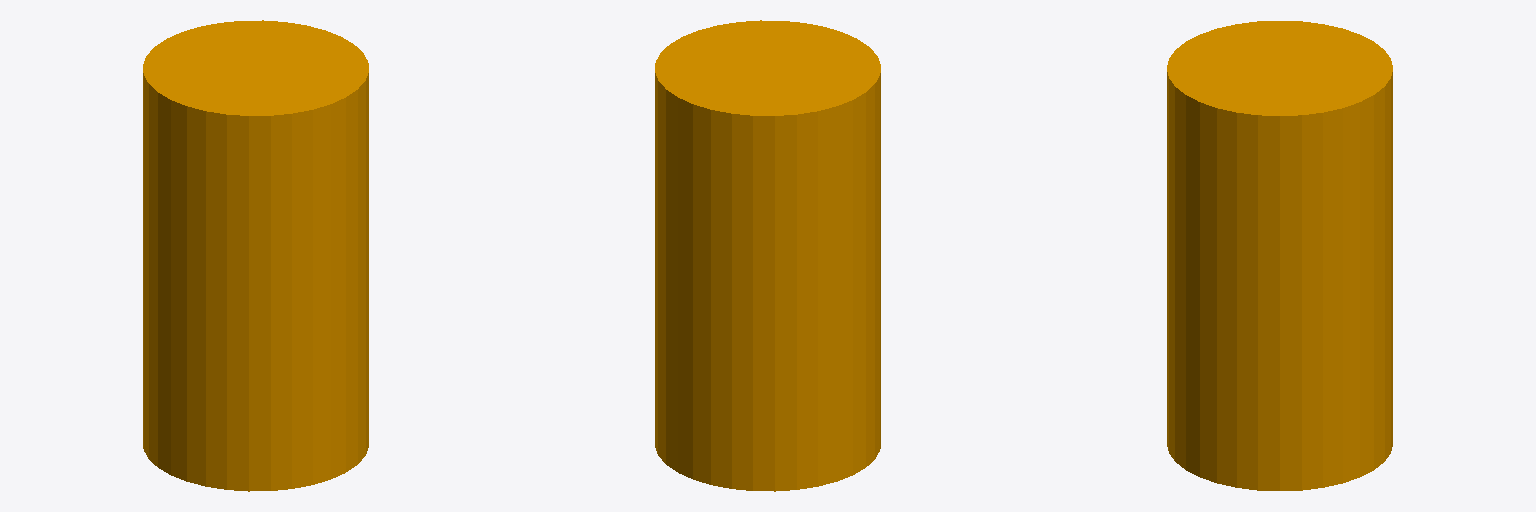
robot.urdf — object:
<?xml version="1.0"?>
<!-- Auto-generated by tools/gen_primitive_objects.py. kind=cyl dims=(0.026, 0.095) -->
<robot name="object">
  <link name="object">
    <visual>
      <origin xyz="0 0 0"/>
      <geometry>
        <cylinder radius="0.026000" length="0.095000"/>
      </geometry>
    </visual>
    <collision>
      <origin xyz="0 0 0"/>
      <geometry>
        <cylinder radius="0.026000" length="0.095000"/>
      </geometry>
    </collision>
    <inertial>
      <mass value="0.040351"/>
      <inertia ixx="0.00003717" ixy="0.0" ixz="0.0" iyy="0.00003717" iyz="0.0" izz="0.00001364"/>
    </inertial>
  </link>
</robot>

--- Render facts (derived) ---
The picture shows the robot from 3 angles, left to right: view 1: azimuth 30°, elevation 25°; view 2: azimuth 150°, elevation 25°; view 3: azimuth 270°, elevation 25°; orthographic projection.
Robot: object — 1 links, 0 joints (none); root link object; default pose: every joint at zero.
Links seen in each view (by area): view 1: object; view 2: object; view 3: object.
Link boxes in pixels (x1,y1,x2,y2): object: [143, 20, 368, 491]; object: [655, 20, 880, 491]; object: [1167, 21, 1392, 490].
Bounding box of the posed robot: 0.052 × 0.052 × 0.095 m (x, y, z).
Geometry: primitives only (box / cylinder / sphere), no mesh files.
